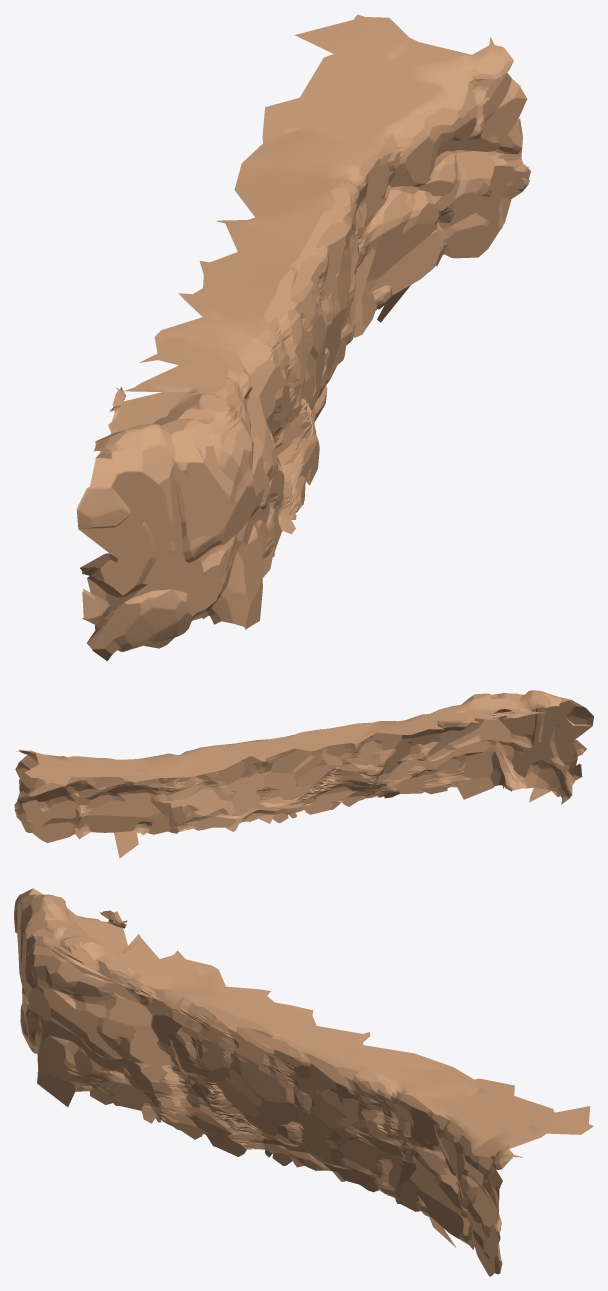
File: SandstoneBig_Mesh_25_004LODs.fbx
The picture shows the model from 3 angles, top to bottom: view 1: azimuth 30°, elevation 25°; view 2: azimuth 150°, elevation 25°; view 3: azimuth 270°, elevation 25°; orthographic projection. The views are drawn at different scales.
Visible parts, largest first — view 1: Mesh_25.004_LOD0; view 2: Mesh_25.004_LOD0; view 3: Mesh_25.004_LOD0.
Boxes of the visible parts, x1,y1,x2,y2 form: Mesh_25.004_LOD0: (76, 14, 530, 661); Mesh_25.004_LOD0: (14, 690, 593, 858); Mesh_25.004_LOD0: (14, 888, 593, 1276).
Size of what is drawn, in the model's own units: 10412 by 3039 by 9464.
